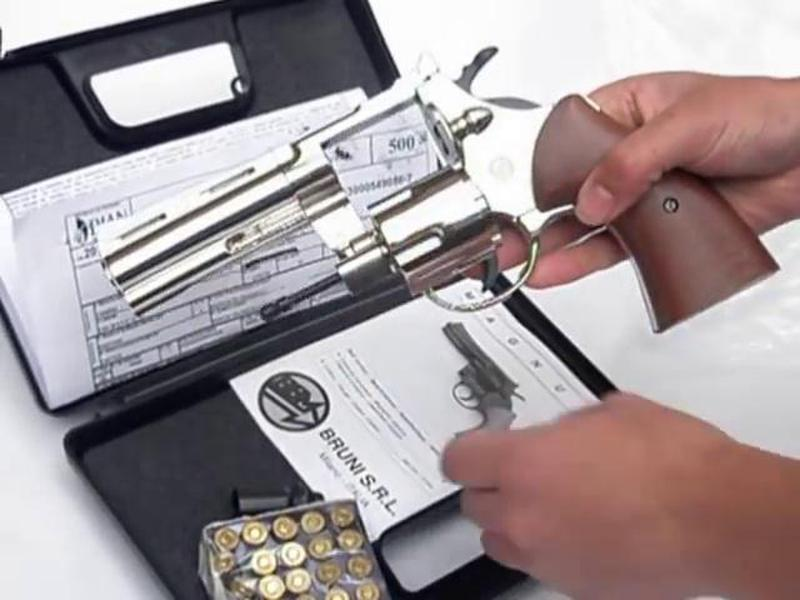Revolver: (79, 63, 774, 341)
